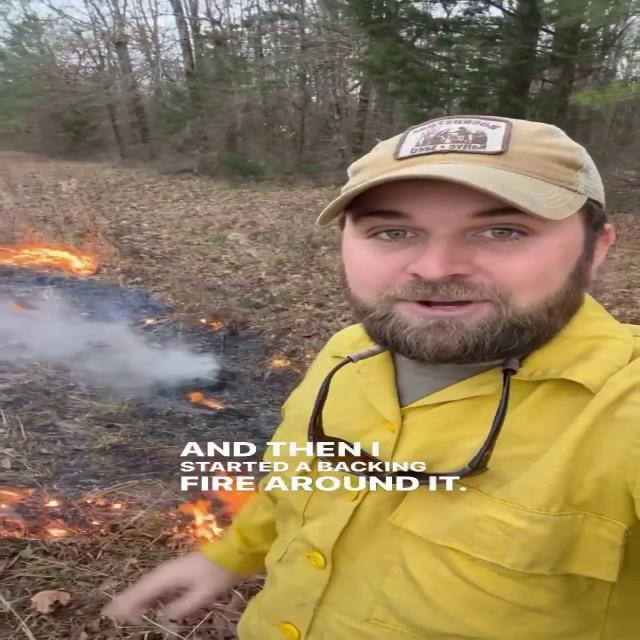Fire: (0, 238, 101, 278)
Smoke: (1, 275, 231, 413)
